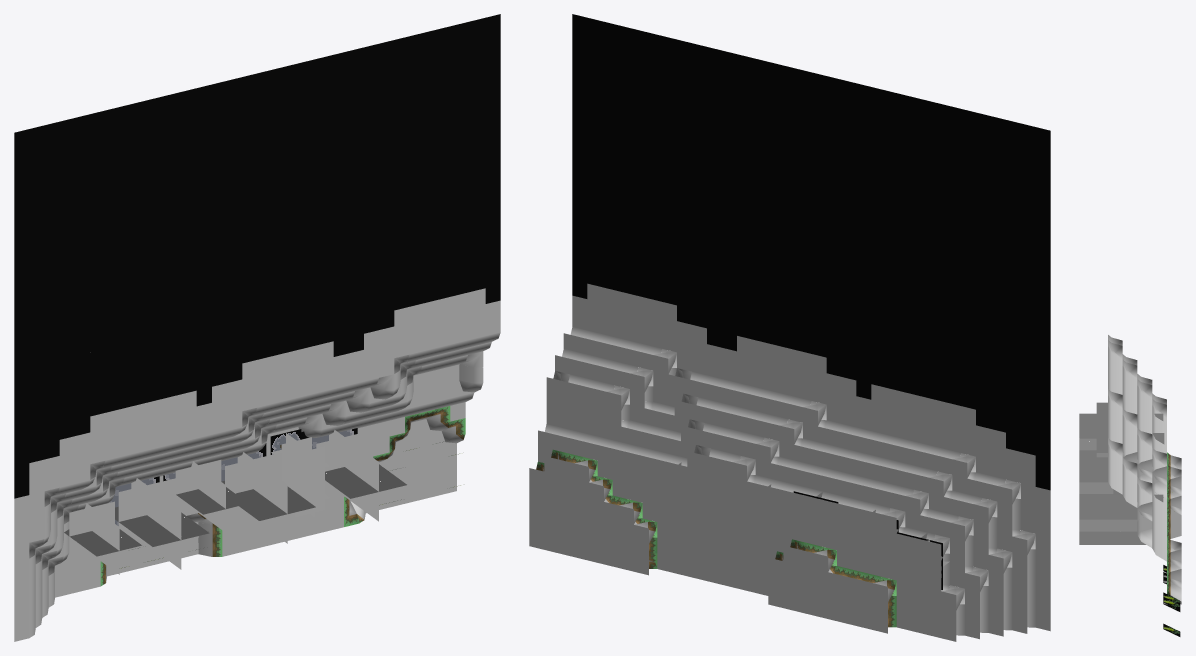
Rendered from Pasture-Place_01_00.obj.
3 renders of one model, left to right at view 1: azimuth 30°, elevation 25°; view 2: azimuth 150°, elevation 25°; view 3: azimuth 270°, elevation 25°, orthographic. The views are drawn at different scales.
Parts seen in each view (by area): view 1: map; view 2: map; view 3: map.
Boxes of the visible parts, x1,y1,x2,y2 form: map: (14, 14, 500, 641); map: (529, 14, 1050, 641); map: (1079, 335, 1181, 636).
Bounding box in the file's own units: 32.02 × 32 × 6.94.
